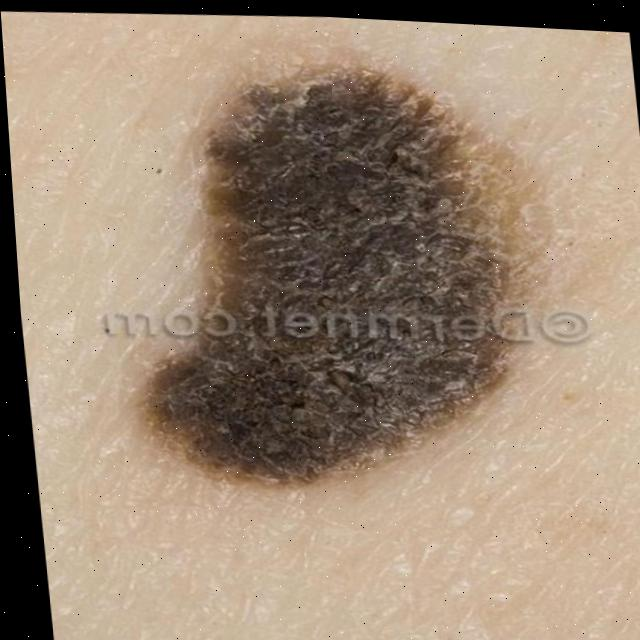Eczema: (103, 43, 562, 498)
